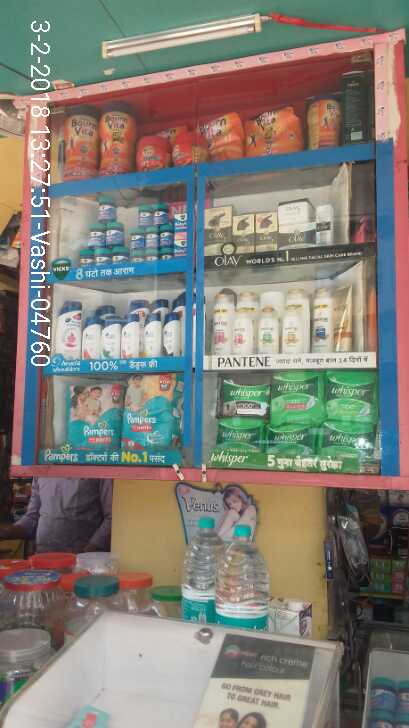beauty: (281, 288, 309, 356), (57, 299, 84, 358), (202, 206, 230, 255), (212, 293, 234, 355), (256, 308, 280, 355), (230, 216, 258, 255), (120, 312, 141, 360), (142, 313, 162, 358), (101, 314, 121, 358), (256, 212, 278, 252), (232, 309, 252, 352), (82, 314, 102, 357), (279, 225, 317, 247), (315, 204, 333, 247), (275, 202, 309, 223)
pharmacy: (122, 375, 183, 451), (67, 384, 118, 447), (322, 369, 379, 424), (267, 373, 323, 420), (219, 377, 268, 418), (320, 422, 377, 457), (265, 420, 320, 451), (218, 417, 268, 450), (96, 195, 117, 225), (151, 201, 171, 227), (135, 204, 152, 228), (129, 228, 144, 250), (145, 227, 158, 247)
